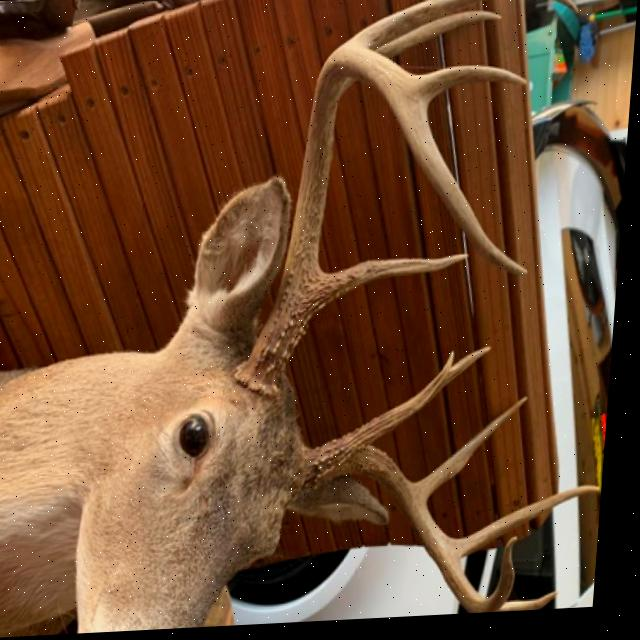E1: (443, 355, 461, 380)
E2: (506, 596, 569, 618)
L-F: (313, 441, 527, 619)
L-G1: (351, 350, 497, 454)
L-G2: (423, 400, 535, 505)
L-G3: (461, 491, 609, 563)
R-F: (240, 45, 533, 399)
R-G1: (317, 256, 473, 317)
R-G3: (349, 0, 504, 54)
R-G4: (417, 70, 531, 109)
